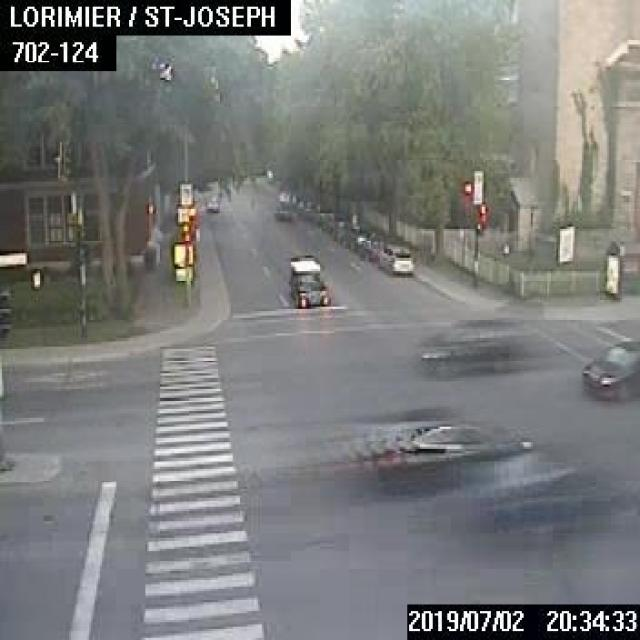vehicle: (372, 417, 532, 492), (418, 314, 533, 373), (579, 338, 638, 401), (288, 255, 328, 305), (376, 242, 412, 274), (356, 238, 381, 260), (272, 202, 290, 220), (348, 234, 366, 252), (204, 196, 218, 211), (276, 190, 288, 204)
